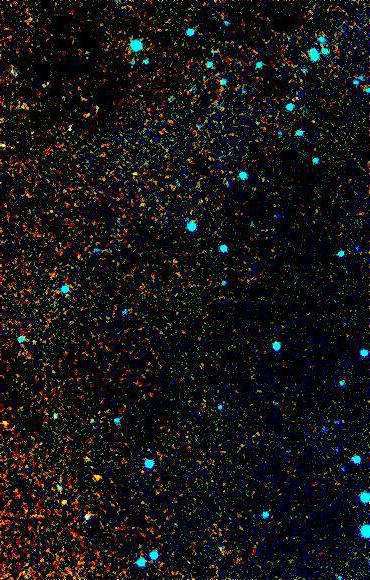star: (84, 463, 114, 493)
